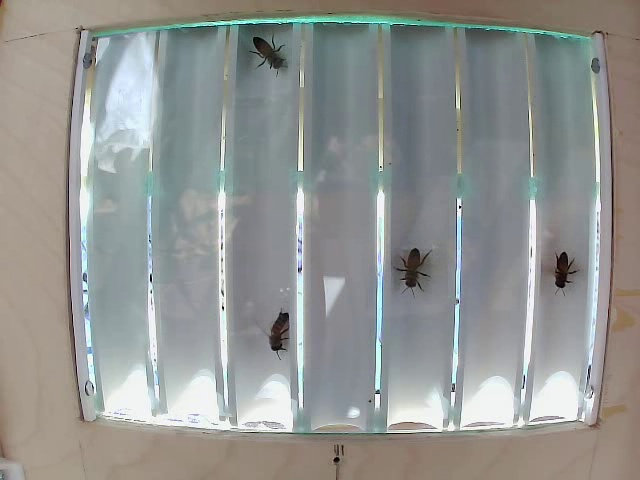bee: (393, 235, 427, 309), (258, 305, 301, 359), (254, 28, 299, 79), (539, 245, 566, 300)
